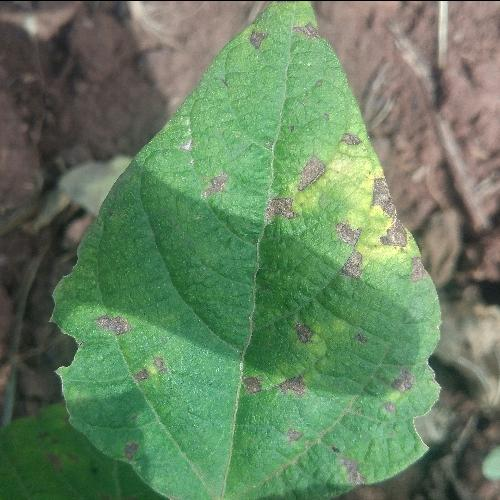hawar: (185, 32, 429, 500)
mozaik: (4, 192, 167, 475)
